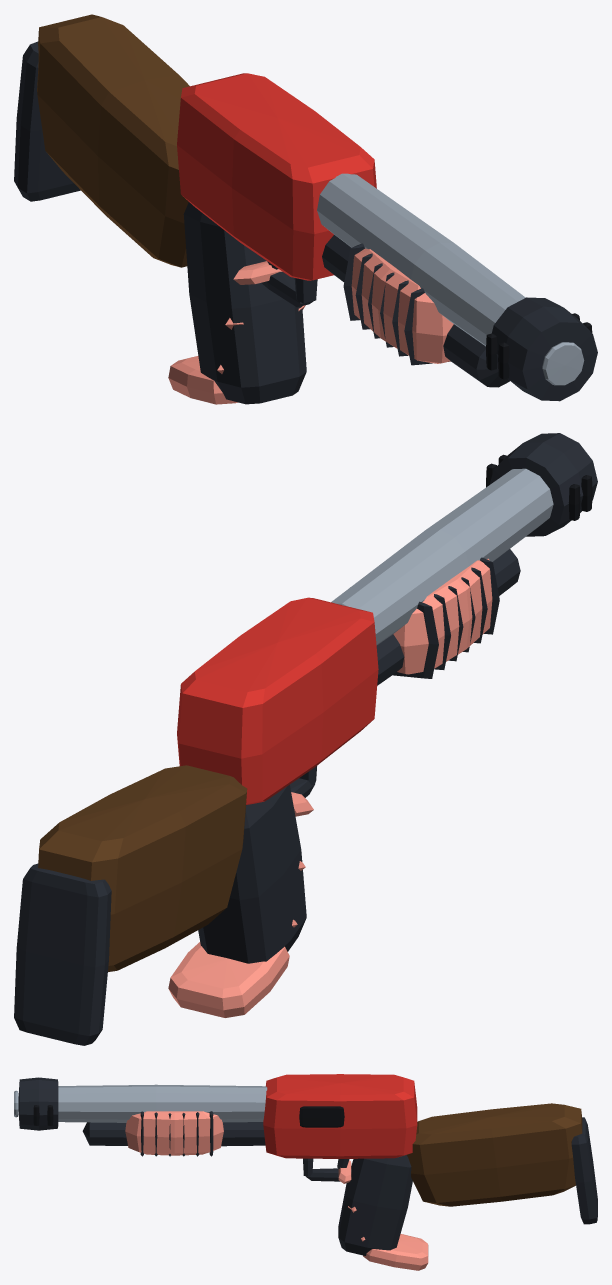
The model's file is g-shotgun-2.glb.
3 views of the same model, one above another, from view 1: azimuth 30°, elevation 25°; view 2: azimuth 150°, elevation 25°; view 3: azimuth 270°, elevation 25° (orthographic). The views are drawn at different scales.
Visible parts, largest first — view 1: gun; view 2: gun; view 3: gun.
Part boxes in pixels (bbox=[...]): gun: bbox=[14, 14, 597, 404]; gun: bbox=[14, 433, 597, 1045]; gun: bbox=[14, 1074, 597, 1270].
Bounding box in the file's own units: 0.138 × 0.438 × 1.27.
